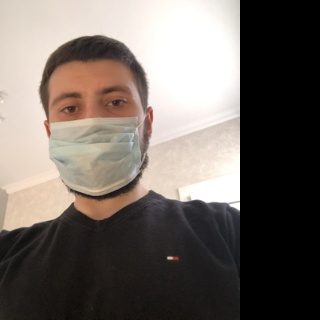with_mask: (48, 80, 148, 202)
